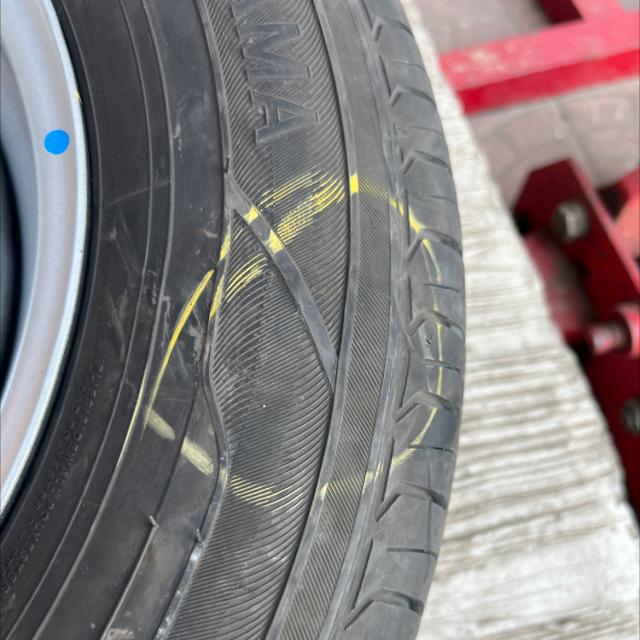Bulge: (200, 220, 433, 482)
